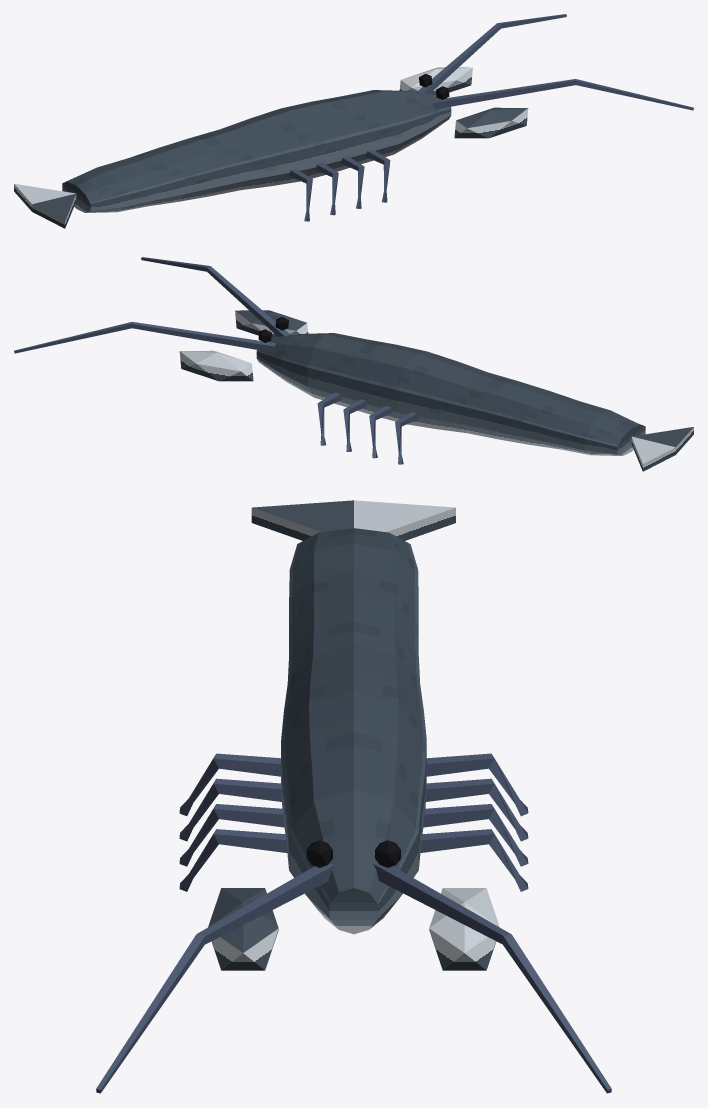
File: yabby.glb
3 renders of one model, top to bottom at view 1: azimuth 30°, elevation 25°; view 2: azimuth 150°, elevation 25°; view 3: azimuth 270°, elevation 25°, orthographic. The views are drawn at different scales.
Parts seen in each view (by area): view 1: fish_yabby; view 2: fish_yabby; view 3: fish_yabby.
Part boxes in pixels (x1,y1,x2,y2): fish_yabby: [14, 14, 693, 228]; fish_yabby: [14, 257, 693, 471]; fish_yabby: [96, 500, 611, 1093].
Size of the model in its own units: 1.62 by 0.1934 by 0.6055.
3 materials, 1 textured.
